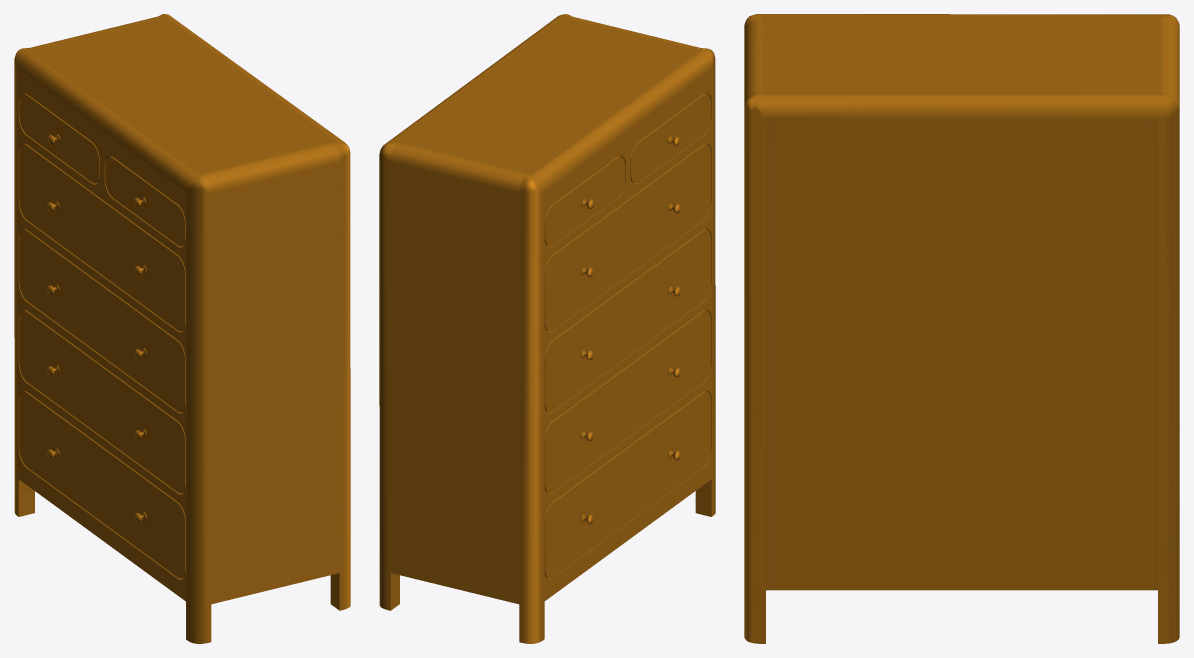
File: storage_unit_dresser_66a88afb-580b-5283-afc7-e7965570517c.glb
3 renders of one model, left to right at view 1: azimuth 30°, elevation 25°; view 2: azimuth 150°, elevation 25°; view 3: azimuth 270°, elevation 25°, orthographic. The views are drawn at different scales.
Visible parts, largest first — view 1: raw_model.obj; view 2: raw_model.obj; view 3: raw_model.obj.
Boxes of the visible parts, x1,y1,x2,y2 form: raw_model.obj: (14, 14, 350, 643); raw_model.obj: (379, 14, 715, 643); raw_model.obj: (744, 14, 1179, 643).
Bounding box in the file's own units: 0.4232 × 1.1 × 0.8.
1 material, 1 textured.
